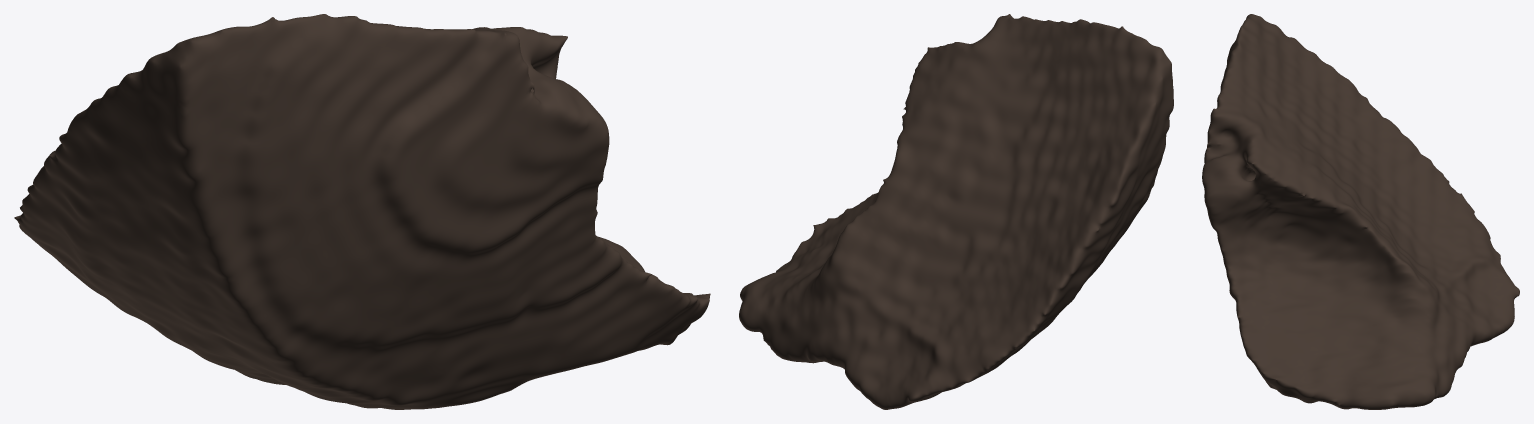
The model's file is middle lobe of right lung.obj.
The picture shows the model from 3 angles, left to right: view 1: azimuth 30°, elevation 25°; view 2: azimuth 150°, elevation 25°; view 3: azimuth 270°, elevation 25°; orthographic projection. The views are drawn at different scales.
Parts seen in each view (by area): view 1: grp1; view 2: grp1; view 3: grp1.
Part boxes in pixels (box(x1,y1,x2,y2)): grp1: box(14, 14, 710, 409); grp1: box(739, 14, 1173, 409); grp1: box(1202, 14, 1519, 409).
Size of the model in its own units: 147 by 118 by 126.
